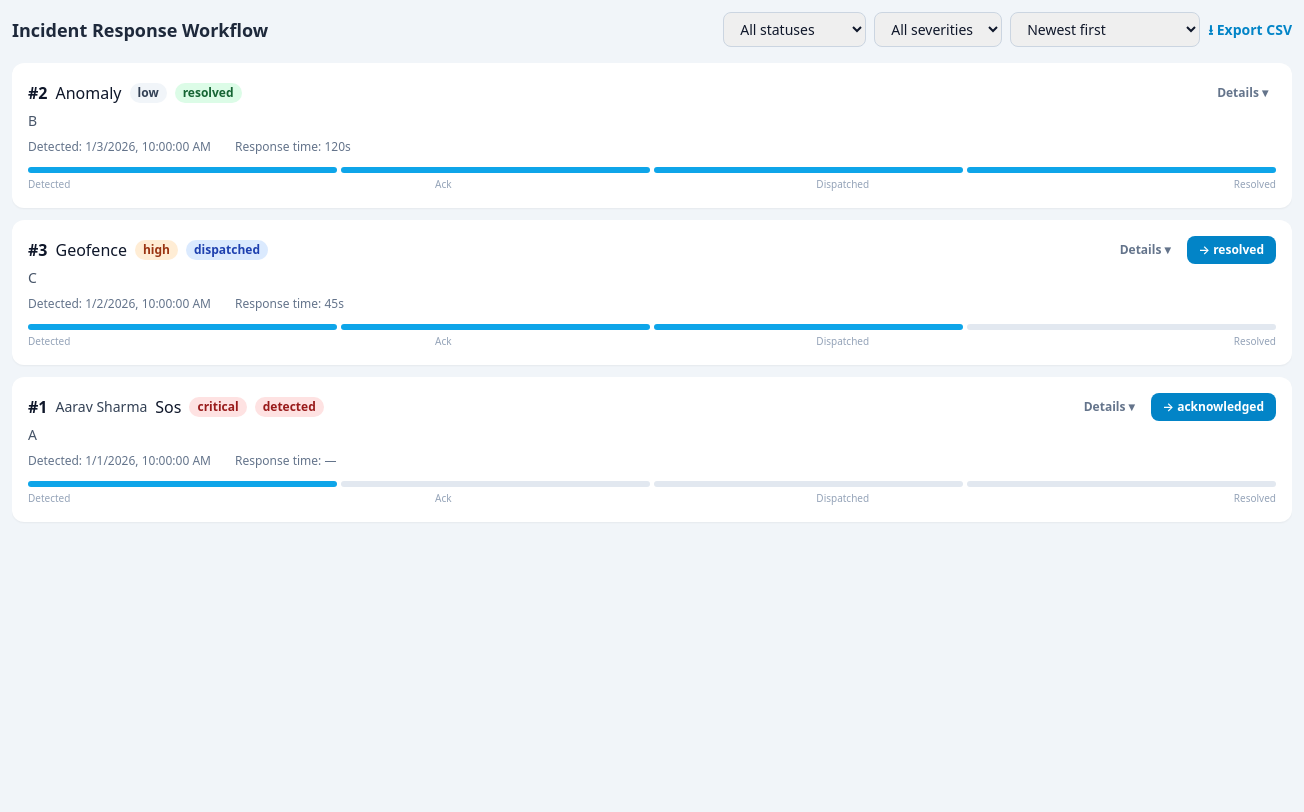
Test: Incidents severity filter and sort › opening Details and the Tourist tab loads that tourist's photo/digital ID/contact info
Expected: the text "A" is shown, [28,425,37,444]
Click the button "Details ▾" in the row of "critical": (1109, 407) [1076,393,1143,421]
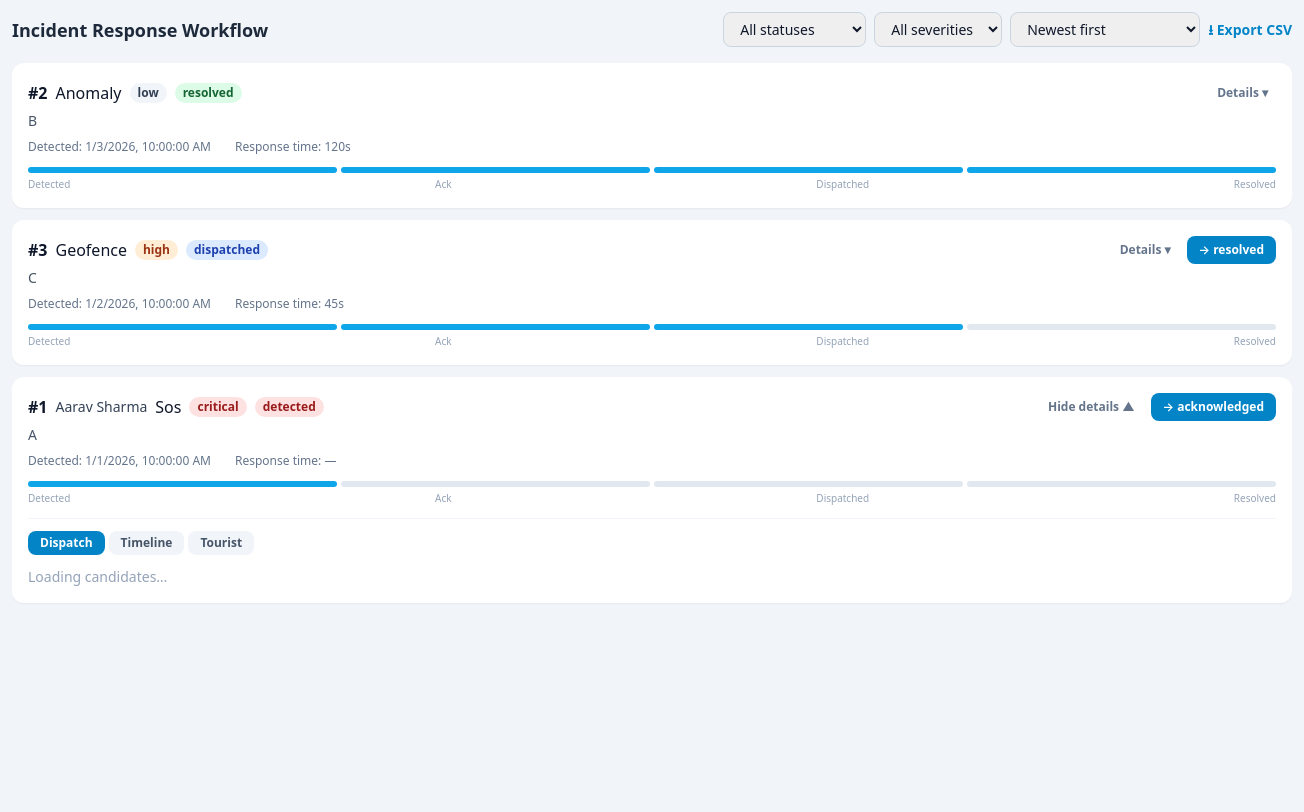
Click the button "tourist": (221, 543) [188,531,254,555]
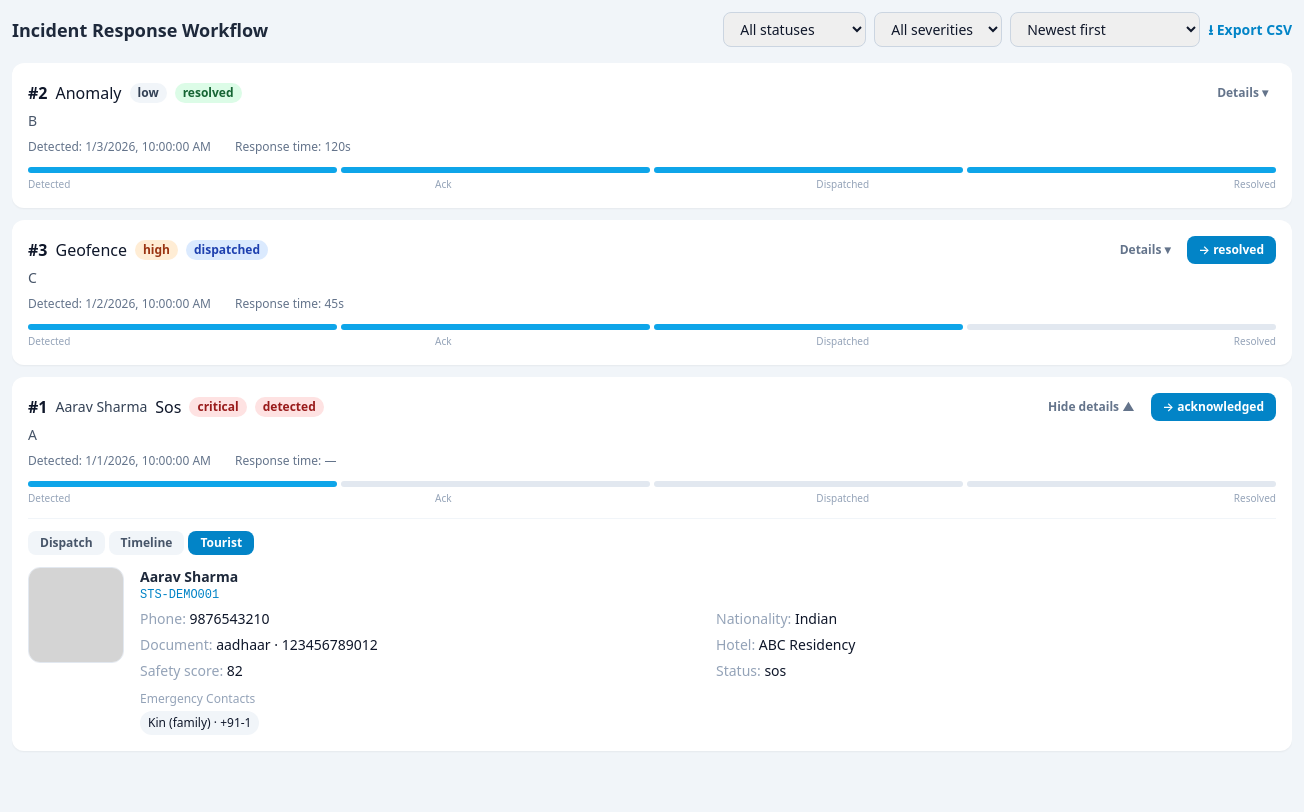
Expected: the text "STS-DEMO001" is shown, [140,588,219,602]
Expected: the text "Hotel: ABC Residency" is shown, [716,635,855,654]
Expected: the text "Kin (family) · +91-1" is shown, [140,711,260,735]
